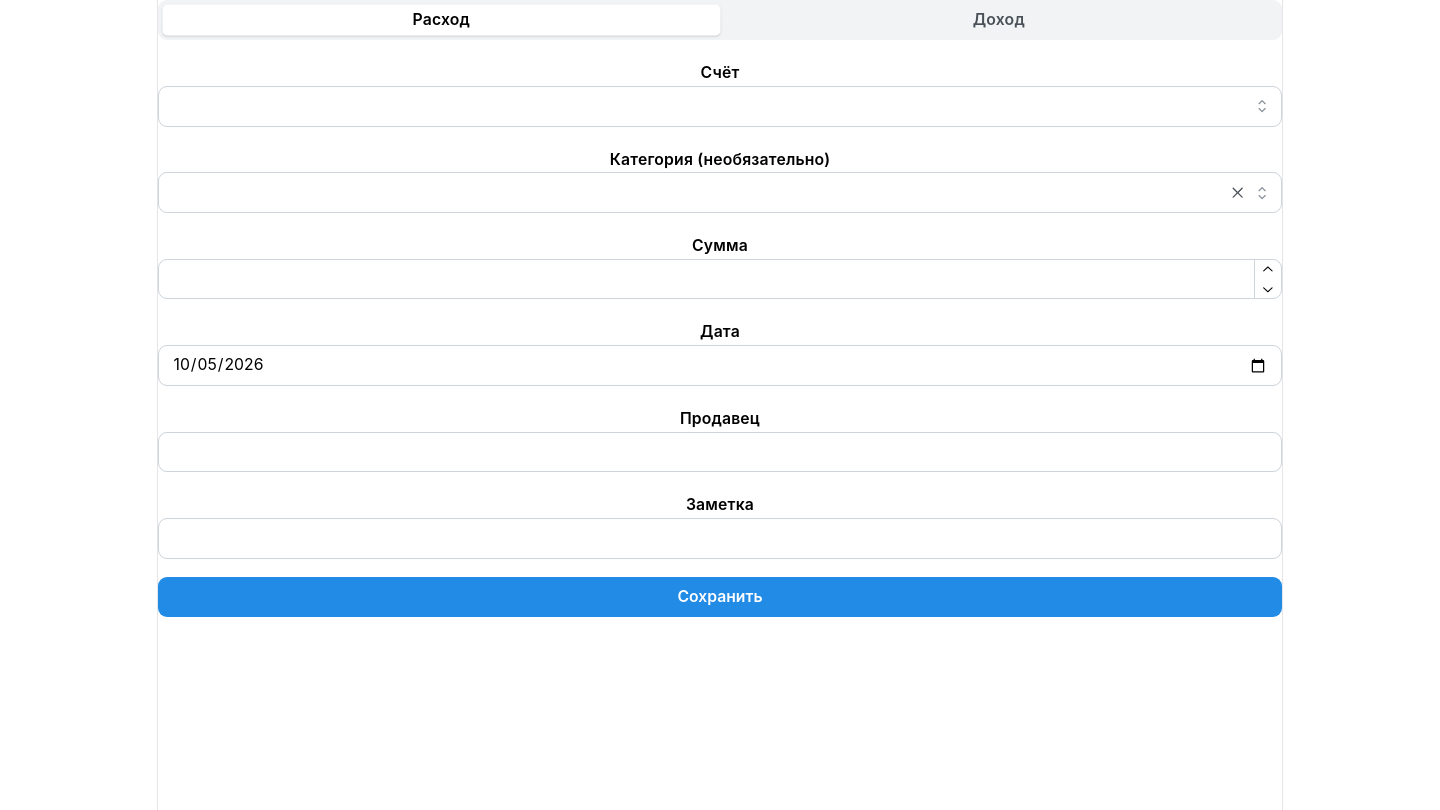
it: валидация: без счёта не отправляется
Click the button "Сохранить": (720, 597) [158, 576, 1282, 617]
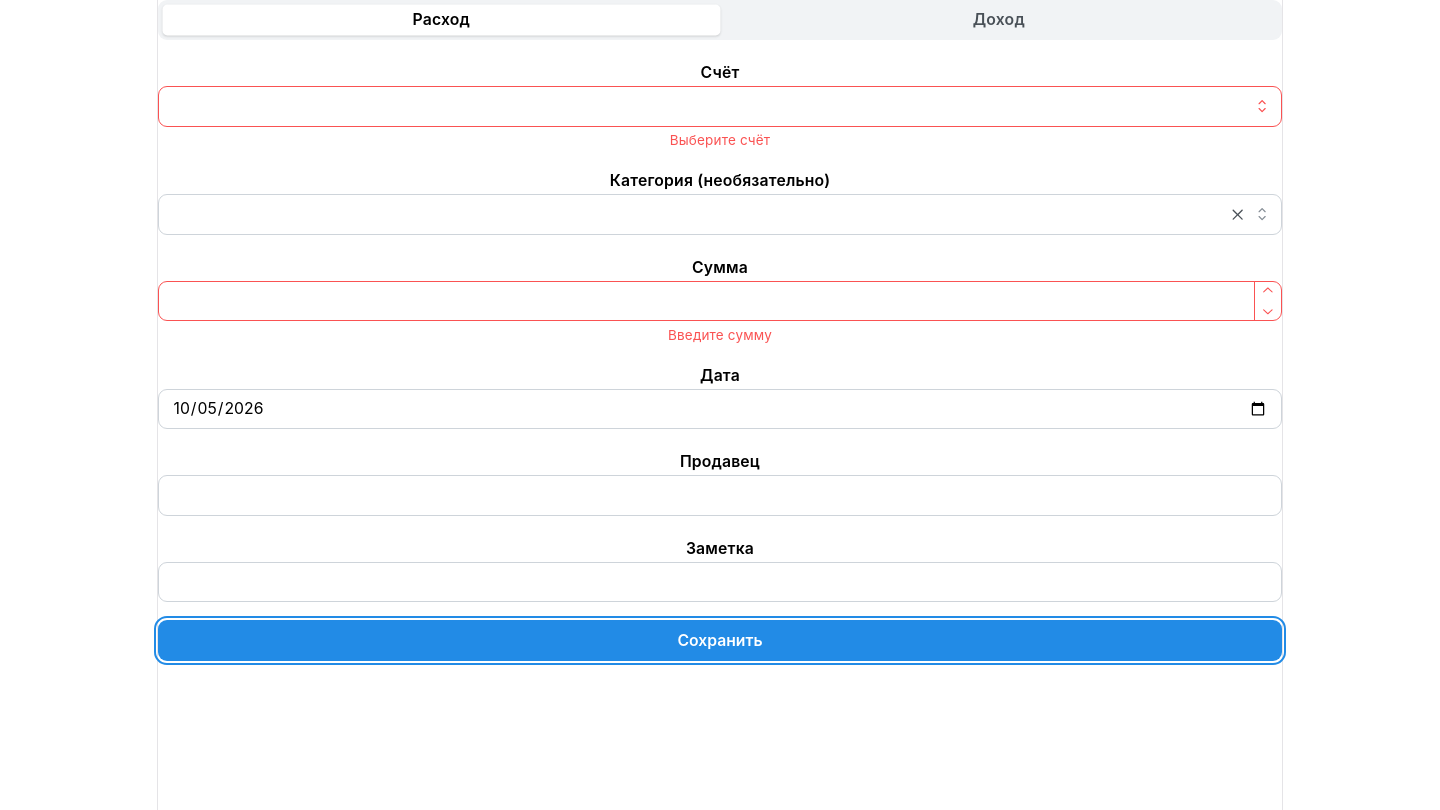
Result: the text "Выберите счёт" is shown at [670, 132, 770, 148]
